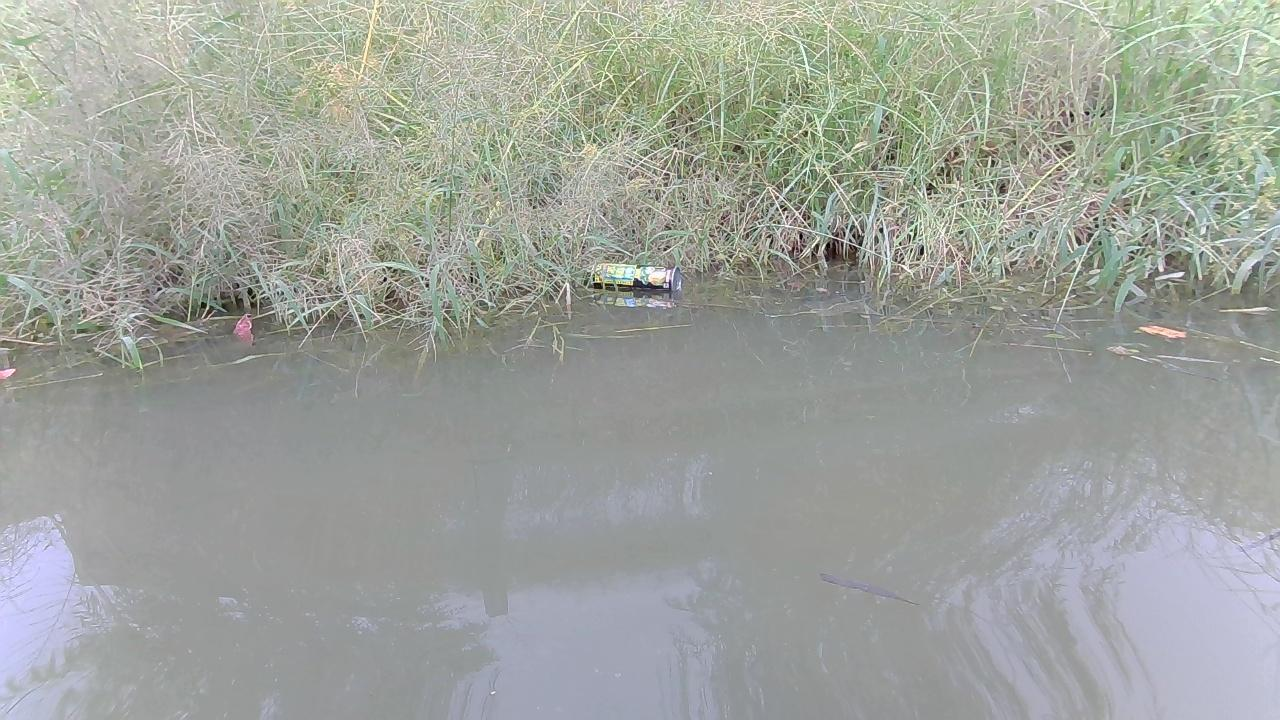bottle: (571, 254, 677, 290)
